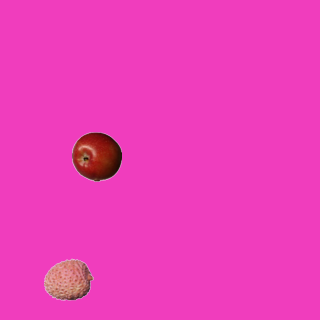Apple Braeburn: (71, 131, 121, 181)
Lychee: (43, 254, 93, 304)
